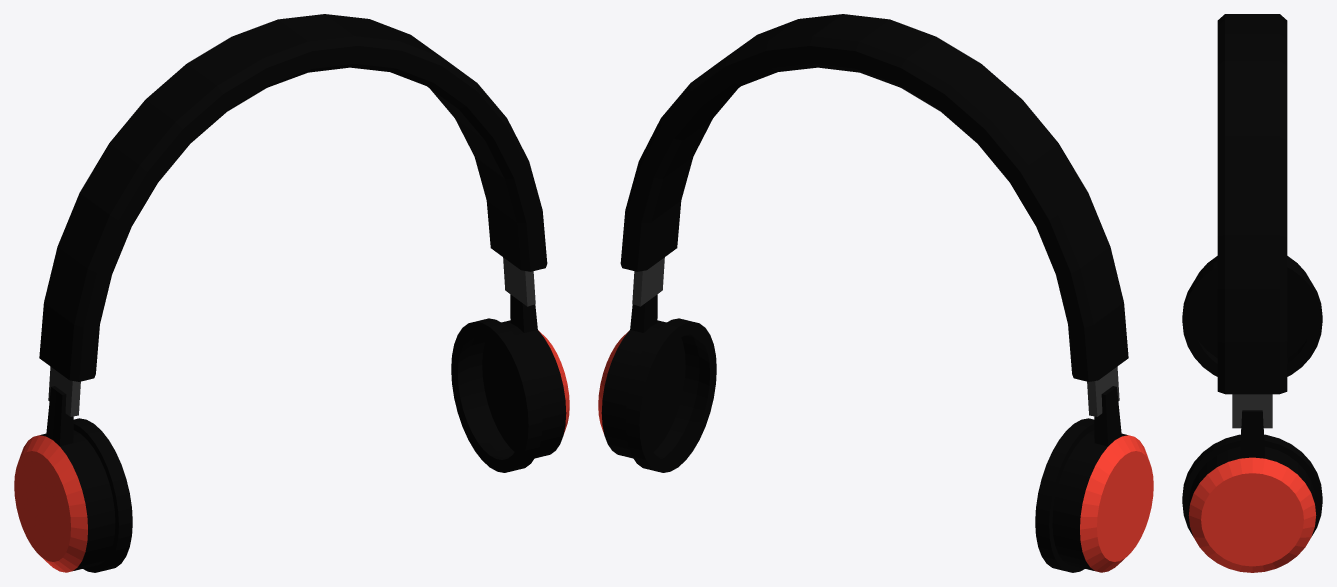
Rendered from Auris.fbx.
3 renders of one model, left to right at view 1: azimuth 30°, elevation 25°; view 2: azimuth 150°, elevation 25°; view 3: azimuth 270°, elevation 25°, orthographic. The views are drawn at different scales.
Parts seen in each view (by area): view 1: auris; view 2: auris; view 3: auris.
Boxes of the visible parts, x1=… form: auris: x1=14, y1=14, x2=569, y2=572; auris: x1=598, y1=14, x2=1153, y2=572; auris: x1=1182, y1=14, x2=1322, y2=572.
Size of the model in its own units: 168 by 156 by 45.09.
